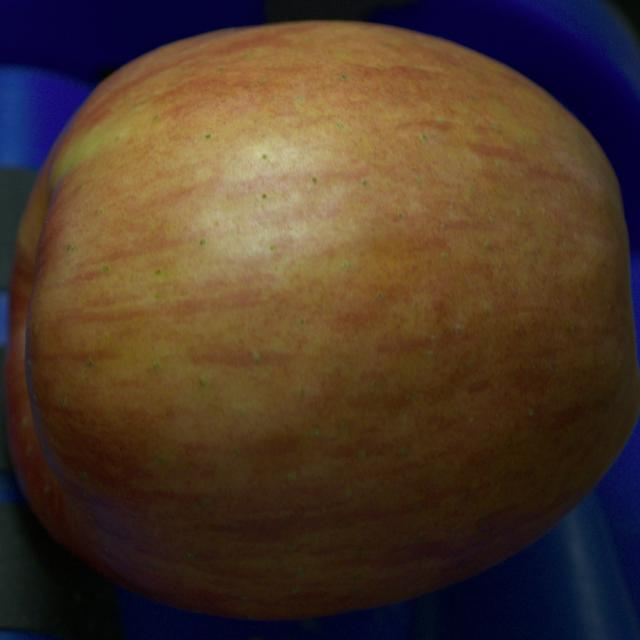apple: (6, 22, 639, 619)
